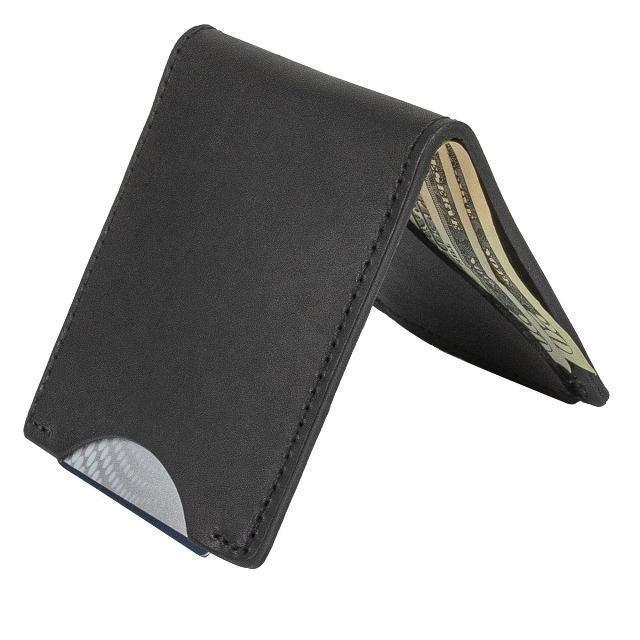wallet: (25, 22, 609, 574)
